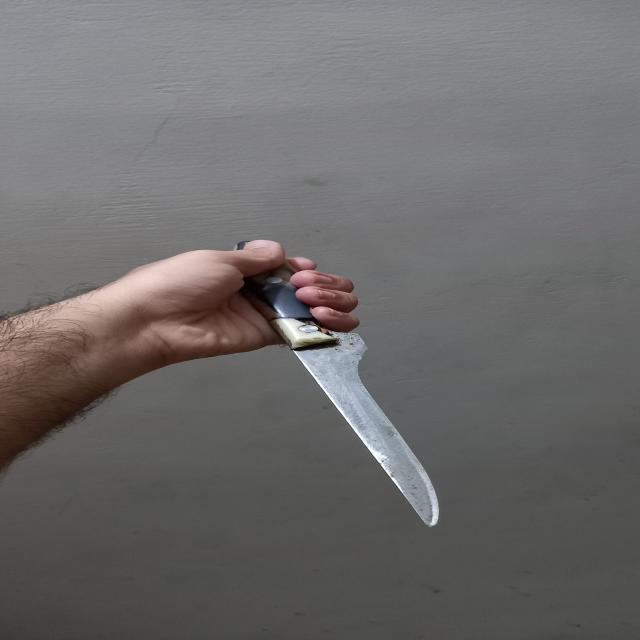Knife: (216, 239, 468, 534)
